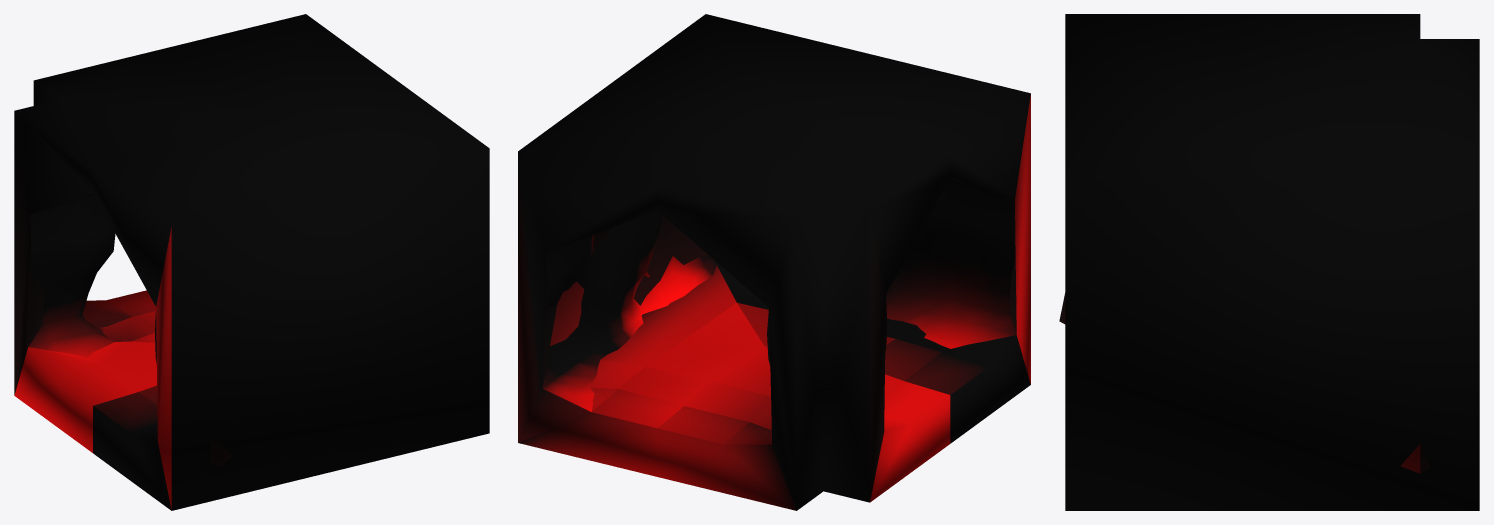
File: JD_Cave_A_Tunnel_6x6_Corner_01.fbx
The picture shows the model from 3 angles, left to right: view 1: azimuth 30°, elevation 25°; view 2: azimuth 150°, elevation 25°; view 3: azimuth 270°, elevation 25°; orthographic projection. The views are drawn at different scales.
Parts seen in each view (by area): view 1: C_JD_Cave_A_Tunnel_6x6_Corner_01, JD_Cave_A_Tunnel_6x6_Corner_01; view 2: C_JD_Cave_A_Tunnel_6x6_Corner_01, JD_Cave_A_Tunnel_6x6_Corner_01; view 3: C_JD_Cave_A_Tunnel_6x6_Corner_01.
Part boxes in pixels (<box>): C_JD_Cave_A_Tunnel_6x6_Corner_01: <box>14,14,489,510</box>; JD_Cave_A_Tunnel_6x6_Corner_01: <box>28,195,156,362</box>; C_JD_Cave_A_Tunnel_6x6_Corner_01: <box>518,14,1030,510</box>; JD_Cave_A_Tunnel_6x6_Corner_01: <box>542,179,1016,411</box>; C_JD_Cave_A_Tunnel_6x6_Corner_01: <box>1059,14,1479,510</box>.
Bounding box in the file's own units: 7.1 × 6 × 7.1.
